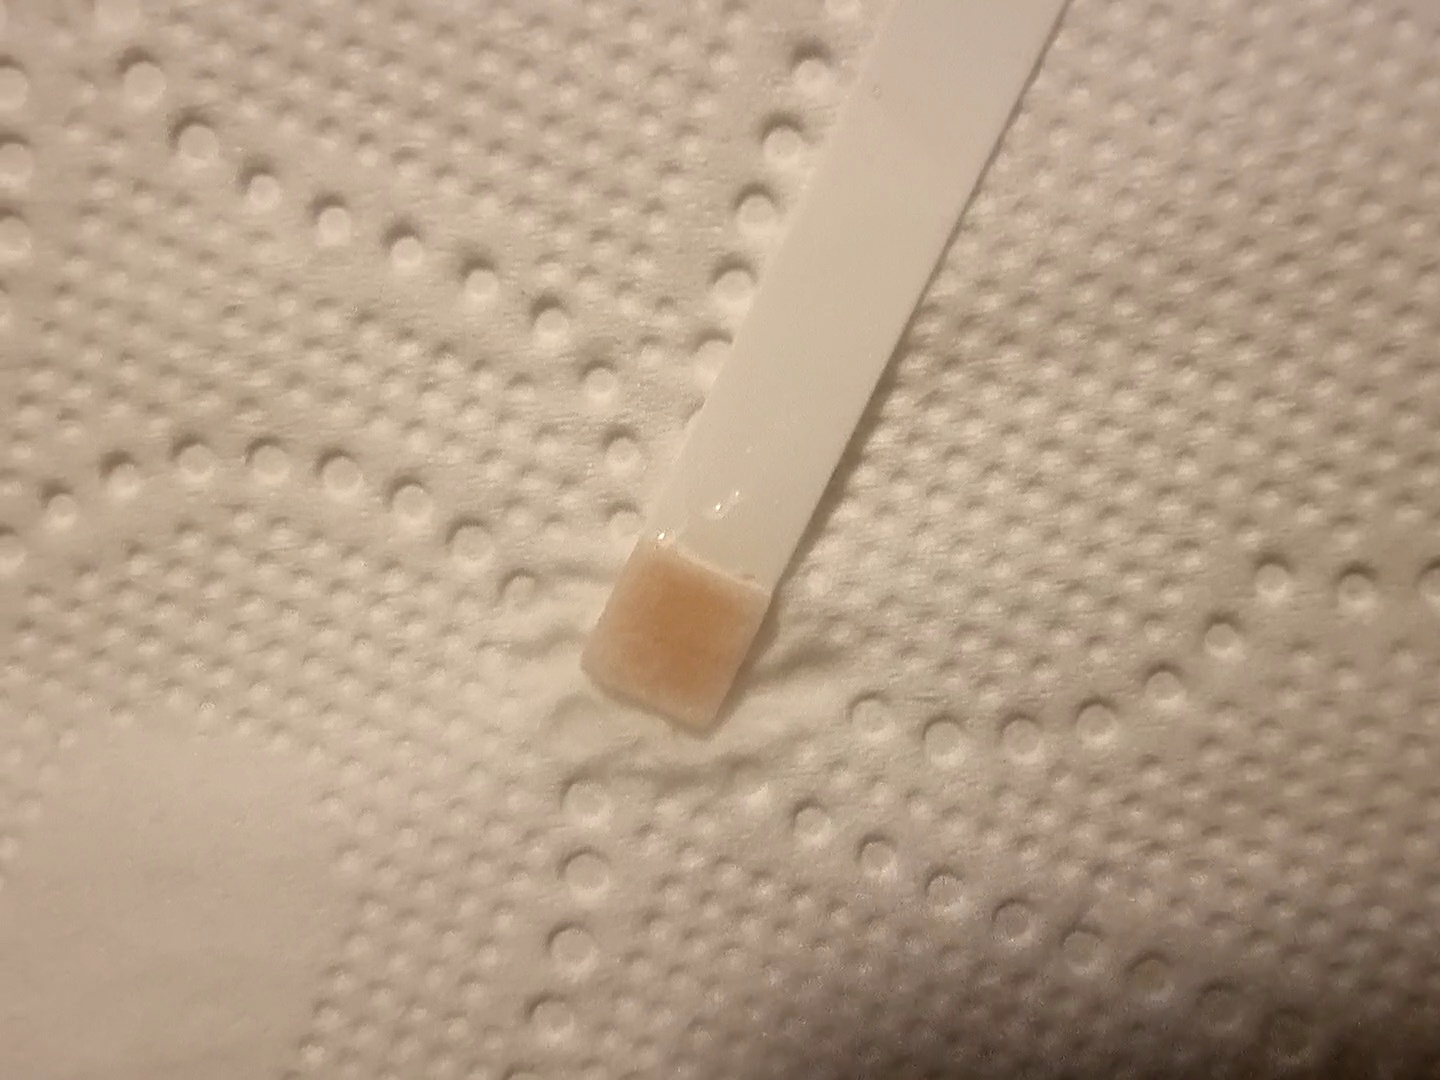keto-tip: (577, 526, 780, 743)
